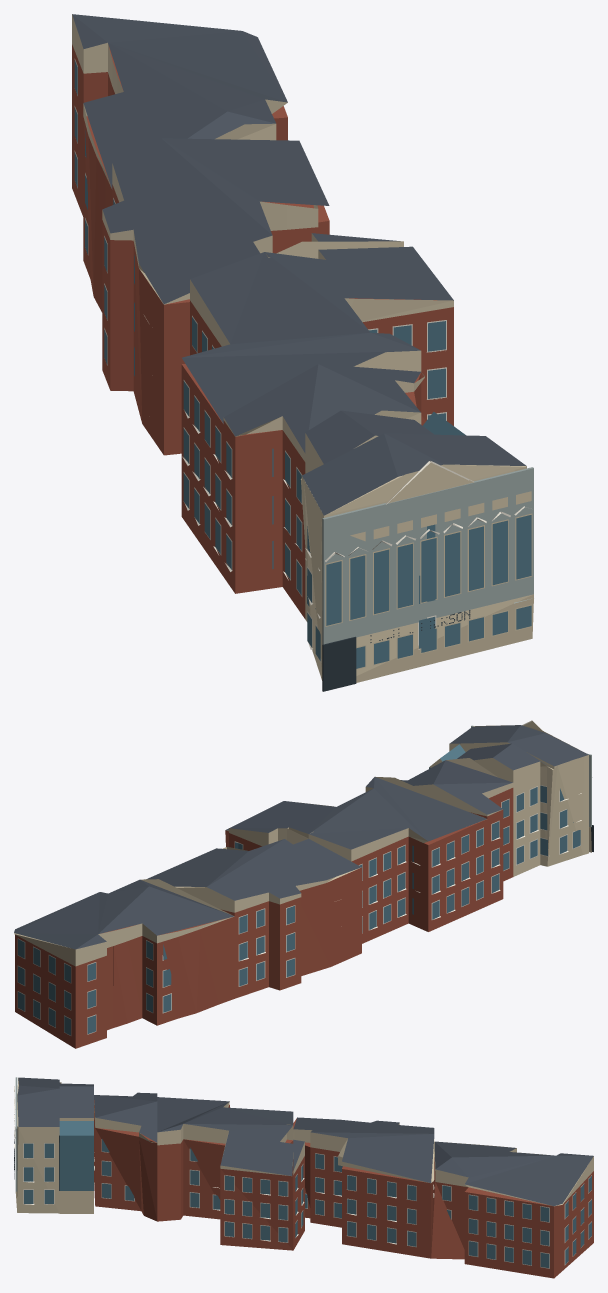
File: allard-pierson.lod1.glb
The picture shows the model from 3 angles, top to bottom: view 1: azimuth 30°, elevation 25°; view 2: azimuth 150°, elevation 25°; view 3: azimuth 270°, elevation 25°; orthographic projection. The views are drawn at different scales.
Visible parts, largest first — view 1: allard-pierson; view 2: allard-pierson; view 3: allard-pierson.
Part boxes in pixels (x1,y1,x2,y2): allard-pierson: (72,14,533,691); allard-pierson: (14,720,593,1048); allard-pierson: (14,1077,593,1278).
Bounding box in the file's own units: 54.39 × 22.53 × 115.
